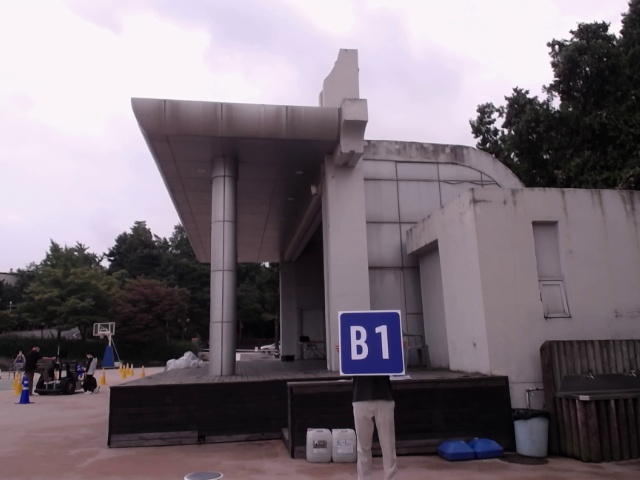delivery_b1: (339, 311, 405, 375)
